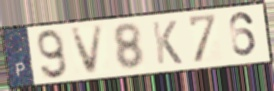6: (228, 10, 259, 60)
7: (187, 12, 220, 66)
8: (112, 21, 148, 73)
9: (35, 28, 70, 80)
K: (150, 19, 185, 67)
V: (68, 22, 107, 78)
